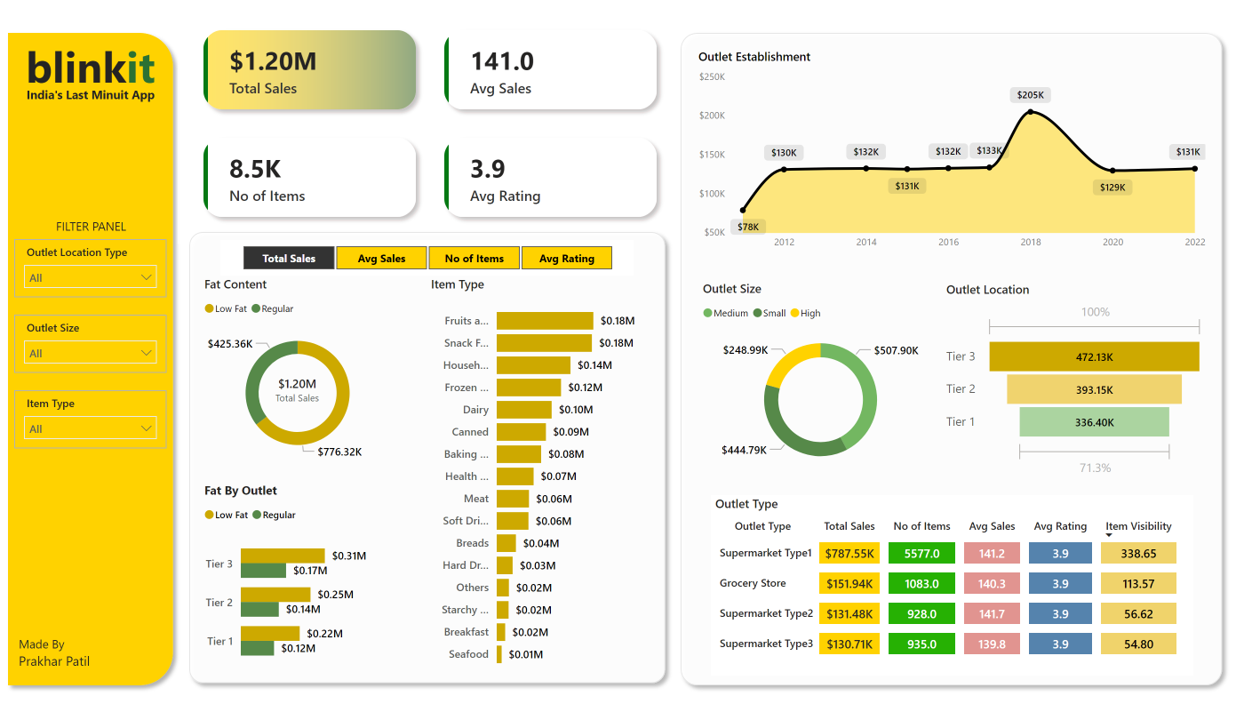

This screenshot's page, from the dashboard's own definition file:
{"tool":"powerbi","page":{"name":"Page 1","canvas":[1400,800],"ordinal":0},"visuals":[{"type":"shape","box":[0,22.8,203.8,752],"z":0},{"type":"textbox","box":[0,30.8,203.8,77.7],"z":1000},{"type":"textbox","box":[0,87.1,203.8,29.5],"z":2000},{"type":"cardVisual","fields":{"Data":["Table1.Total Sales","Table1.Avg Sales","Table1.No of Items","Table1.Avg Rating"]},"box":[199.7,0,569.7,269.4],"z":3000},{"type":"shape","box":[203.8,247.1,553.6,525.5],"z":4000},{"type":"donutChart","title":"Fat Content","fields":{"Category":["Table1.Item Fat Content"],"Y":["Table1.Total Sales"]},"box":[225.2,304.7,219.8,219.8],"z":5000},{"type":"slicer","fields":{"Values":["Matrix.Matrix"]},"box":[248,264.5,465.1,40.2],"z":6000},{"type":"cardVisual","fields":{"Data":["Table1.Total Sales"]},"box":[280.2,399.5,109.9,68.4],"z":7000},{"type":"clusteredBarChart","title":"Fat By Outlet","fields":{"Category":["Table1.Outlet Location Type"],"Series":["Table1.Item Fat Content"],"Y":["Table1.Total Sales"]},"box":[225.2,536.6,220,220],"z":8000},{"type":"barChart","title":"Item Type","fields":{"Category":["Table1.Item Type"],"Y":["Table1.Total Sales"]},"box":[479.7,305.2,265.1,451.3],"z":9000},{"type":"shape","box":[757.4,22.8,627.3,752],"z":10000},{"type":"lineChart","title":"Outlet Establishment","fields":{"Category":["Table1.Outlet Establishment Year"],"Y":["Table1.Total Sales"]},"box":[781.1,48.9,580.7,235.1],"z":11000},{"type":"donutChart","title":"Outlet Size","fields":{"Category":["Table1.Outlet Size"],"Y":["Table1.Total Sales"]},"box":[786.2,310.2,275,225],"z":12000},{"type":"funnel","title":"Outlet Location","fields":{"Category":["Table1.Outlet Location Type"],"Y":["Sum(Table1.Sales)"]},"box":[1060.4,310.9,299.8,225.7],"z":13000},{"type":"pivotTable","title":"Outlet Type","fields":{"Rows":["Table1.Outlet Type"],"Values":["Table1.Total Sales","Table1.No of Items","Table1.Avg Sales","Table1.Avg Rating","Sum(Table1.Item Visibility)"]},"box":[800.1,552.3,542.8,203.6],"z":14000},{"type":"slicer","fields":{"Values":["Table1.Outlet Location Type"]},"box":[16.1,264.1,171.6,65.7],"z":15000},{"type":"slicer","fields":{"Values":["Table1.Outlet Size"]},"box":[16.1,348.5,171.6,65.7],"z":16000},{"type":"slicer","fields":{"Values":["Table1.Item Type"]},"box":[16.1,434.3,171.6,65.7],"z":17000},{"type":"textbox","box":[45.6,234.6,112.6,34.9],"z":17001},{"type":"textbox","box":[16.1,705.1,124.7,50.9],"z":17002}]}

Visuals, with their boxes in screenshot pixels (x1, y1, x2, y2), scaled from the page's 1400x800 canvas onto the 1244x720 screenshot:
shape: region(0, 21, 181, 697)
textbox: region(0, 28, 181, 98)
textbox: region(0, 78, 181, 105)
cardVisual - Table1.Total Sales x Table1.Avg Sales: region(177, 0, 684, 242)
shape: region(181, 222, 673, 695)
"Fat Content" donutChart: region(200, 274, 395, 472)
slicer - Matrix.Matrix: region(220, 238, 634, 274)
cardVisual - Table1.Total Sales: region(249, 360, 347, 421)
"Fat By Outlet" clusteredBarChart: region(200, 483, 396, 681)
"Item Type" barChart: region(426, 275, 662, 681)
shape: region(673, 21, 1230, 697)
"Outlet Establishment" lineChart: region(694, 44, 1210, 256)
"Outlet Size" donutChart: region(699, 279, 943, 482)
"Outlet Location" funnel: region(942, 280, 1209, 483)
"Outlet Type" pivotTable: region(711, 497, 1193, 680)
slicer - Table1.Outlet Location Type: region(14, 238, 167, 297)
slicer - Table1.Outlet Size: region(14, 314, 167, 373)
slicer - Table1.Item Type: region(14, 391, 167, 450)
textbox: region(41, 211, 141, 243)
textbox: region(14, 635, 125, 680)
